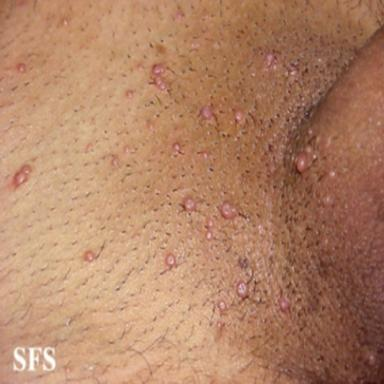Molluscum-Contagiosum: (151, 64, 167, 90), (13, 165, 31, 186), (221, 201, 239, 220), (295, 152, 308, 174), (236, 282, 248, 300), (200, 106, 213, 120), (165, 254, 176, 269), (184, 198, 196, 211), (279, 298, 290, 312), (218, 300, 227, 312), (86, 251, 94, 262), (235, 111, 244, 120), (206, 219, 215, 228), (173, 142, 181, 152), (146, 121, 154, 131), (112, 157, 119, 168), (17, 63, 25, 72), (369, 356, 376, 366), (205, 231, 212, 240), (126, 90, 133, 99), (217, 322, 223, 331), (137, 63, 143, 71), (125, 146, 130, 153), (63, 19, 67, 26), (177, 11, 181, 18), (87, 143, 92, 148)
